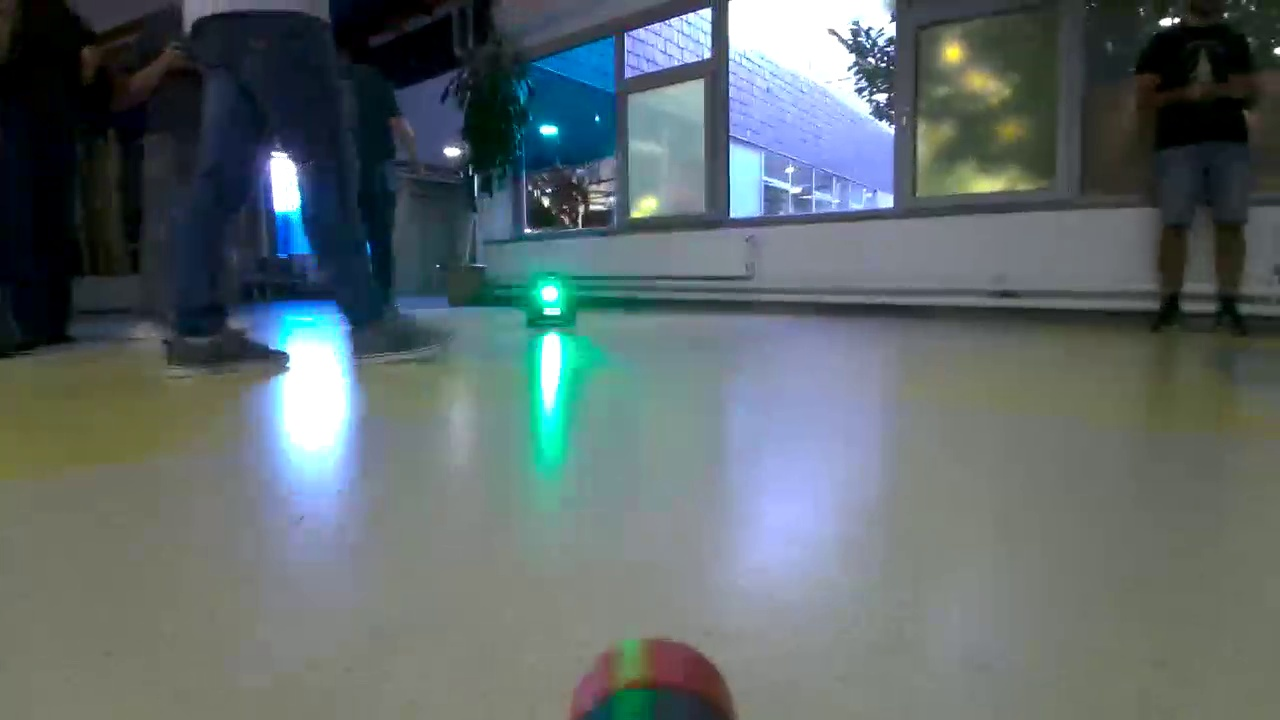robot: (531, 277, 577, 326)
